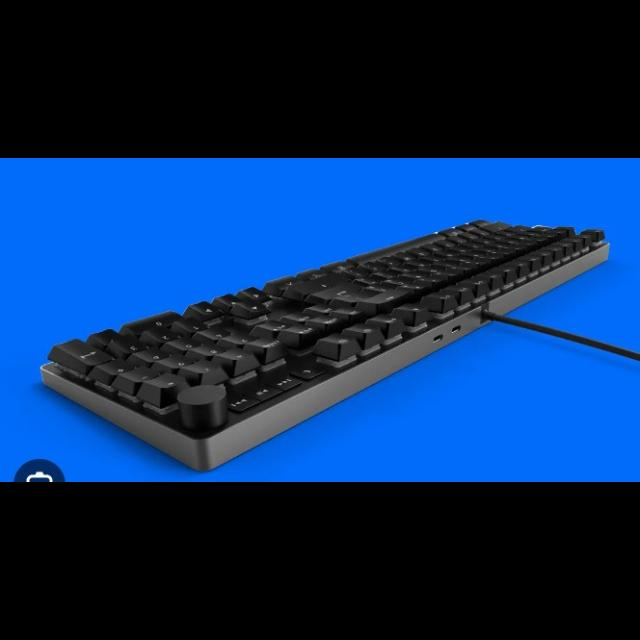Computer-Keyboard: (40, 221, 611, 474)
